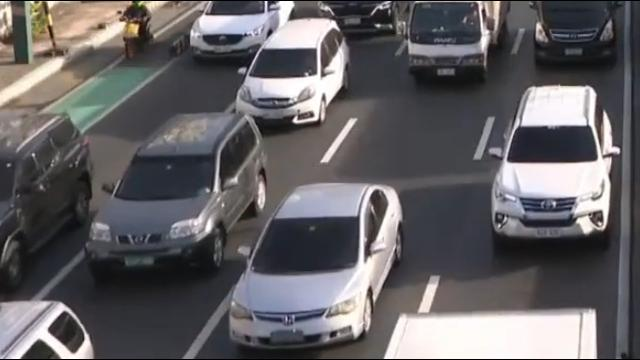car: (82, 112, 269, 283), (228, 183, 403, 351), (485, 84, 620, 257), (0, 111, 91, 289), (233, 16, 353, 128), (0, 295, 107, 360), (191, 0, 300, 61), (533, 0, 621, 67), (316, 0, 405, 37)
motorcycle: (120, 1, 151, 69)
truck: (407, 0, 509, 85)
